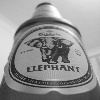beer: (6, 1, 100, 97)
